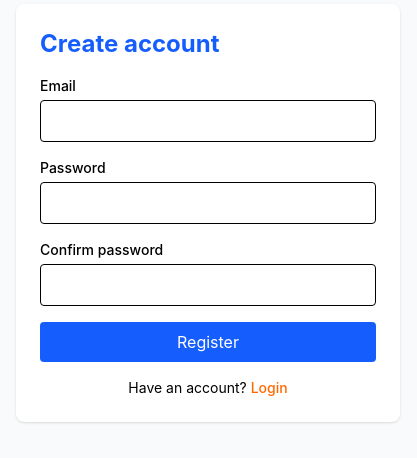
Test: shows an error when the email is already used
Type "a@b.com" into the field labelled "Email" at (208, 121), box 40,100 -> 376,142
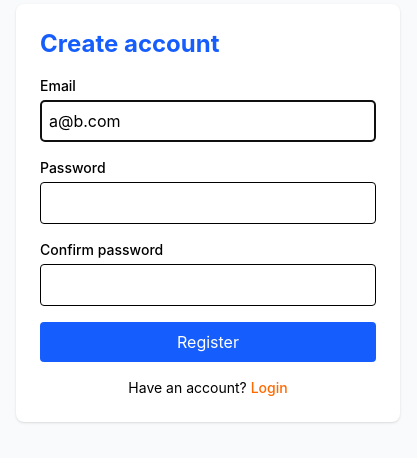
Type "secret123" into the password field labelled "Password" at (208, 203), box 40,182 -> 376,224
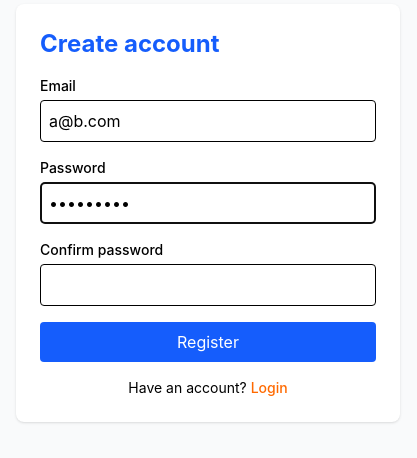
Type "secret123" into the password field labelled "Confirm password" at (208, 285), box 40,264 -> 376,306
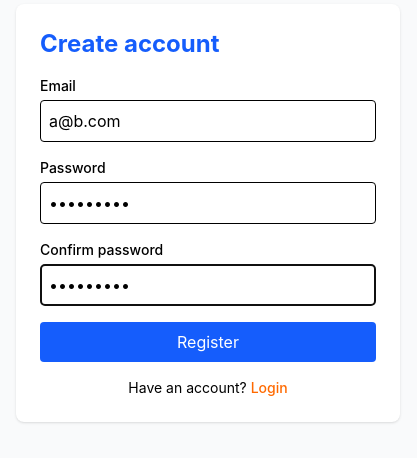
Click the button "Register" at (208, 342), box 40,322 -> 376,362
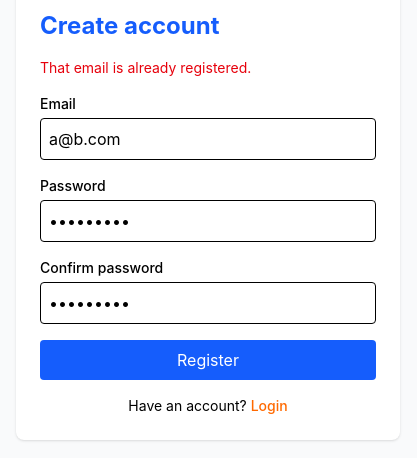
expect the message shows "already registered": met, box 40,59 -> 251,76
